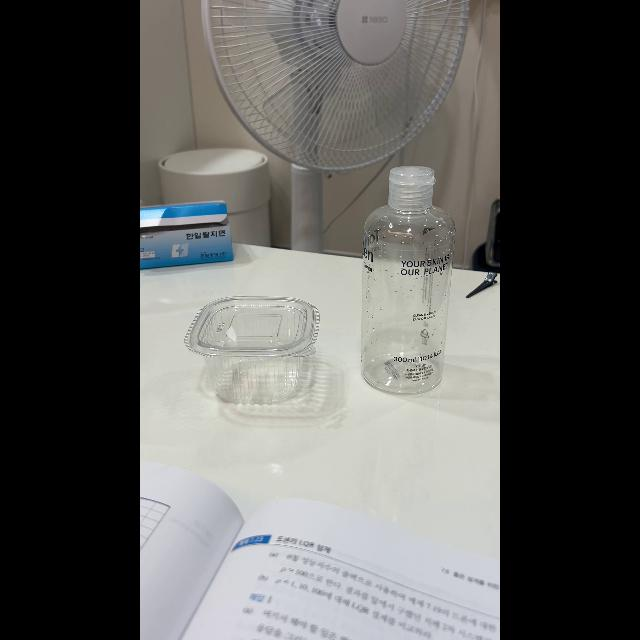clean: (361, 169, 457, 389), (185, 296, 322, 404)
